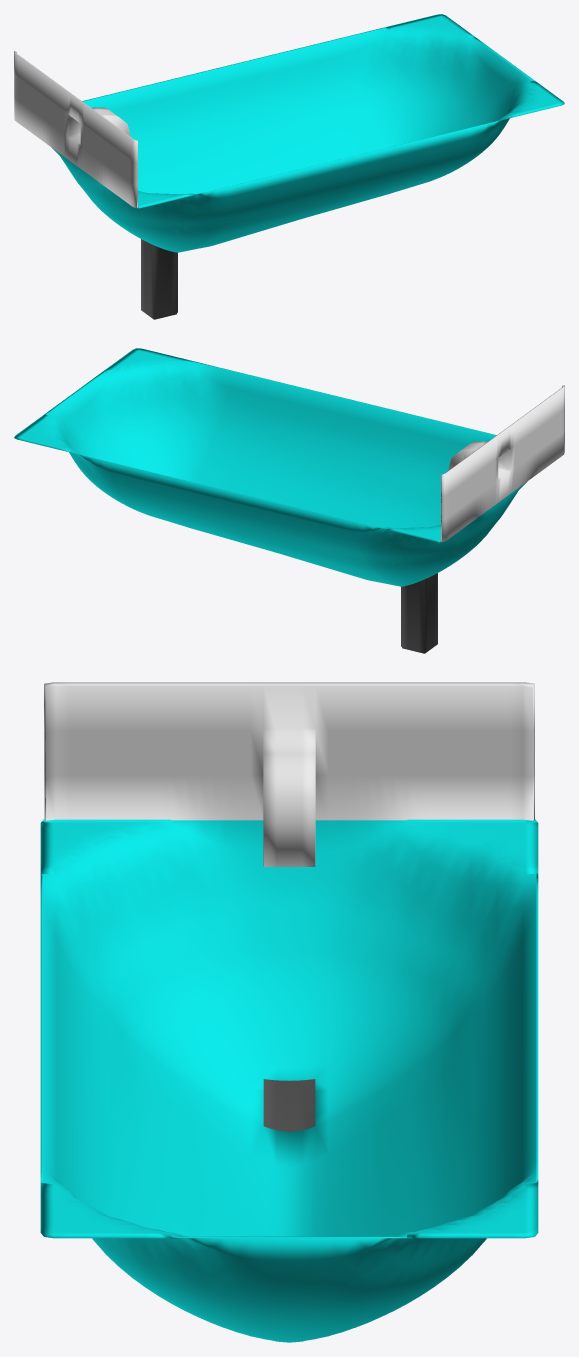
File: tank.fbx
3 renders of one model, top to bottom at view 1: azimuth 30°, elevation 25°; view 2: azimuth 150°, elevation 25°; view 3: azimuth 270°, elevation 25°, orthographic. The views are drawn at different scales.
Visible parts, largest first — view 1: Grid; view 2: Grid; view 3: Grid.
Boxes of the visible parts, x1,y1,x2,y2 form: Grid: (14, 14, 564, 319); Grid: (14, 348, 564, 653); Grid: (40, 682, 538, 1342).
Size of the model in its own units: 4 by 2.1 by 2.
